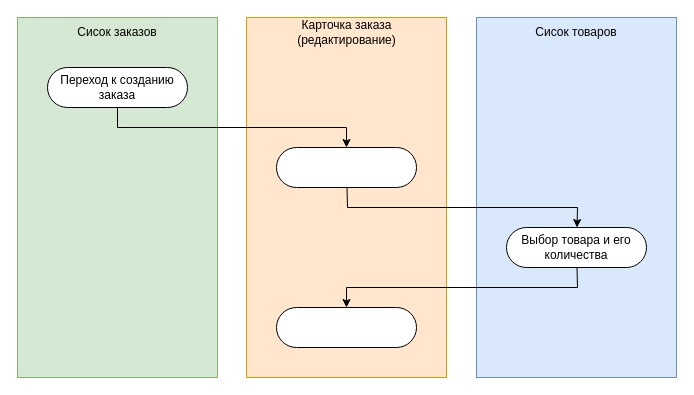
The diagram is 694 pixels wide and 395 high, and some of its shapes have lost their labels. The shapes that lost their labels are listed below. From the top down, each one's centre as x and y in pixels, then its label:
[346,167]: Заполнение данных о клиенте
[346,327]: Выбор статуса заказа
